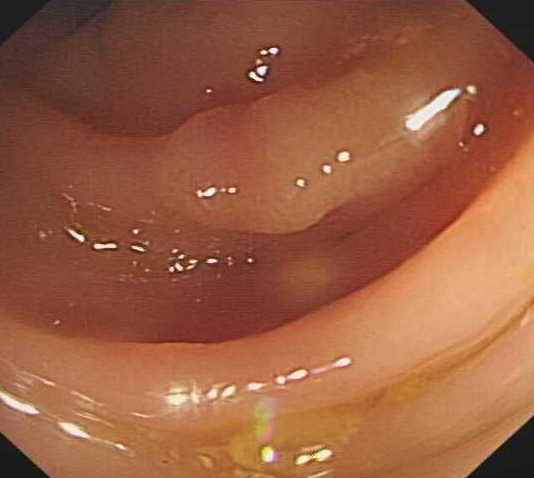adenoma: (160, 84, 413, 236)
